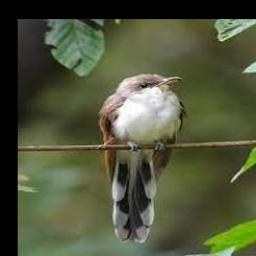Cuckoo: (99, 74, 188, 245)
